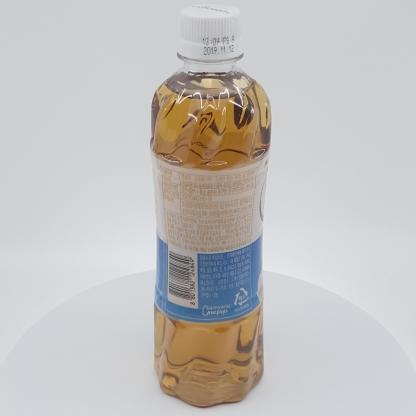------500ML: (149, 4, 272, 407)
